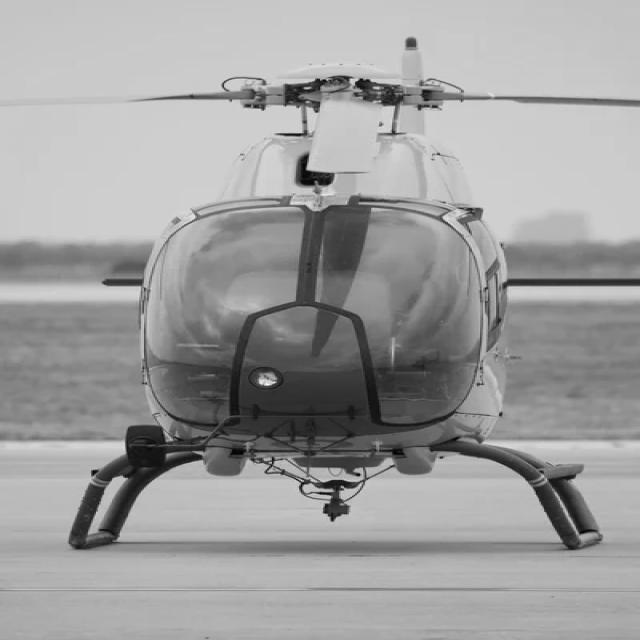Helicopter: (4, 38, 640, 550)
